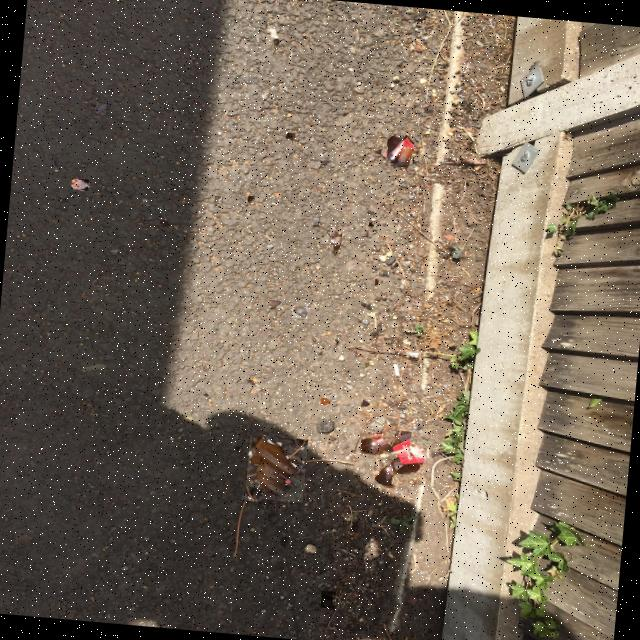Broken glass: (248, 435, 305, 500), (360, 431, 425, 487), (388, 136, 413, 168), (331, 230, 341, 254), (321, 590, 335, 607), (245, 488, 262, 501), (292, 307, 308, 319), (259, 492, 276, 503), (96, 104, 106, 114), (311, 217, 320, 225), (269, 301, 281, 307), (361, 400, 370, 408), (285, 132, 295, 138), (424, 105, 433, 111), (215, 196, 221, 205), (320, 399, 330, 404), (273, 268, 280, 275), (318, 160, 330, 164), (327, 228, 333, 236), (273, 40, 279, 47), (367, 210, 375, 215), (203, 364, 208, 371), (374, 279, 378, 286), (248, 196, 253, 201), (317, 234, 321, 238), (369, 222, 373, 226)
Cigarette: (394, 364, 399, 376)
Unlabeled litter: (71, 178, 88, 190)
